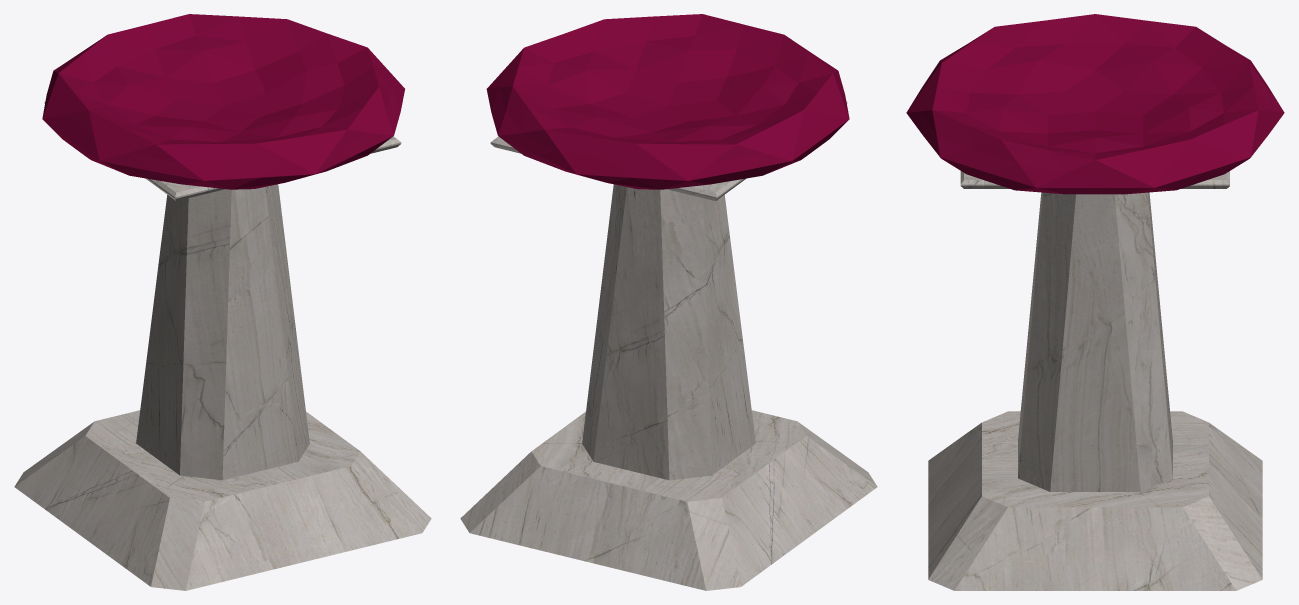
Rendered from pedistal.fbx.
The picture shows the model from 3 angles, left to right: view 1: azimuth 30°, elevation 25°; view 2: azimuth 150°, elevation 25°; view 3: azimuth 270°, elevation 25°; orthographic projection. The views are drawn at different scales.
Visible parts, largest first — view 1: Plane; view 2: Plane; view 3: Plane.
Part boxes in pixels (box(x1,y1,x2,y2)): Plane: box(14, 14, 431, 590); Plane: box(460, 14, 877, 590); Plane: box(906, 14, 1284, 590).
Bounding box in the file's own units: 436 × 579 × 453.
